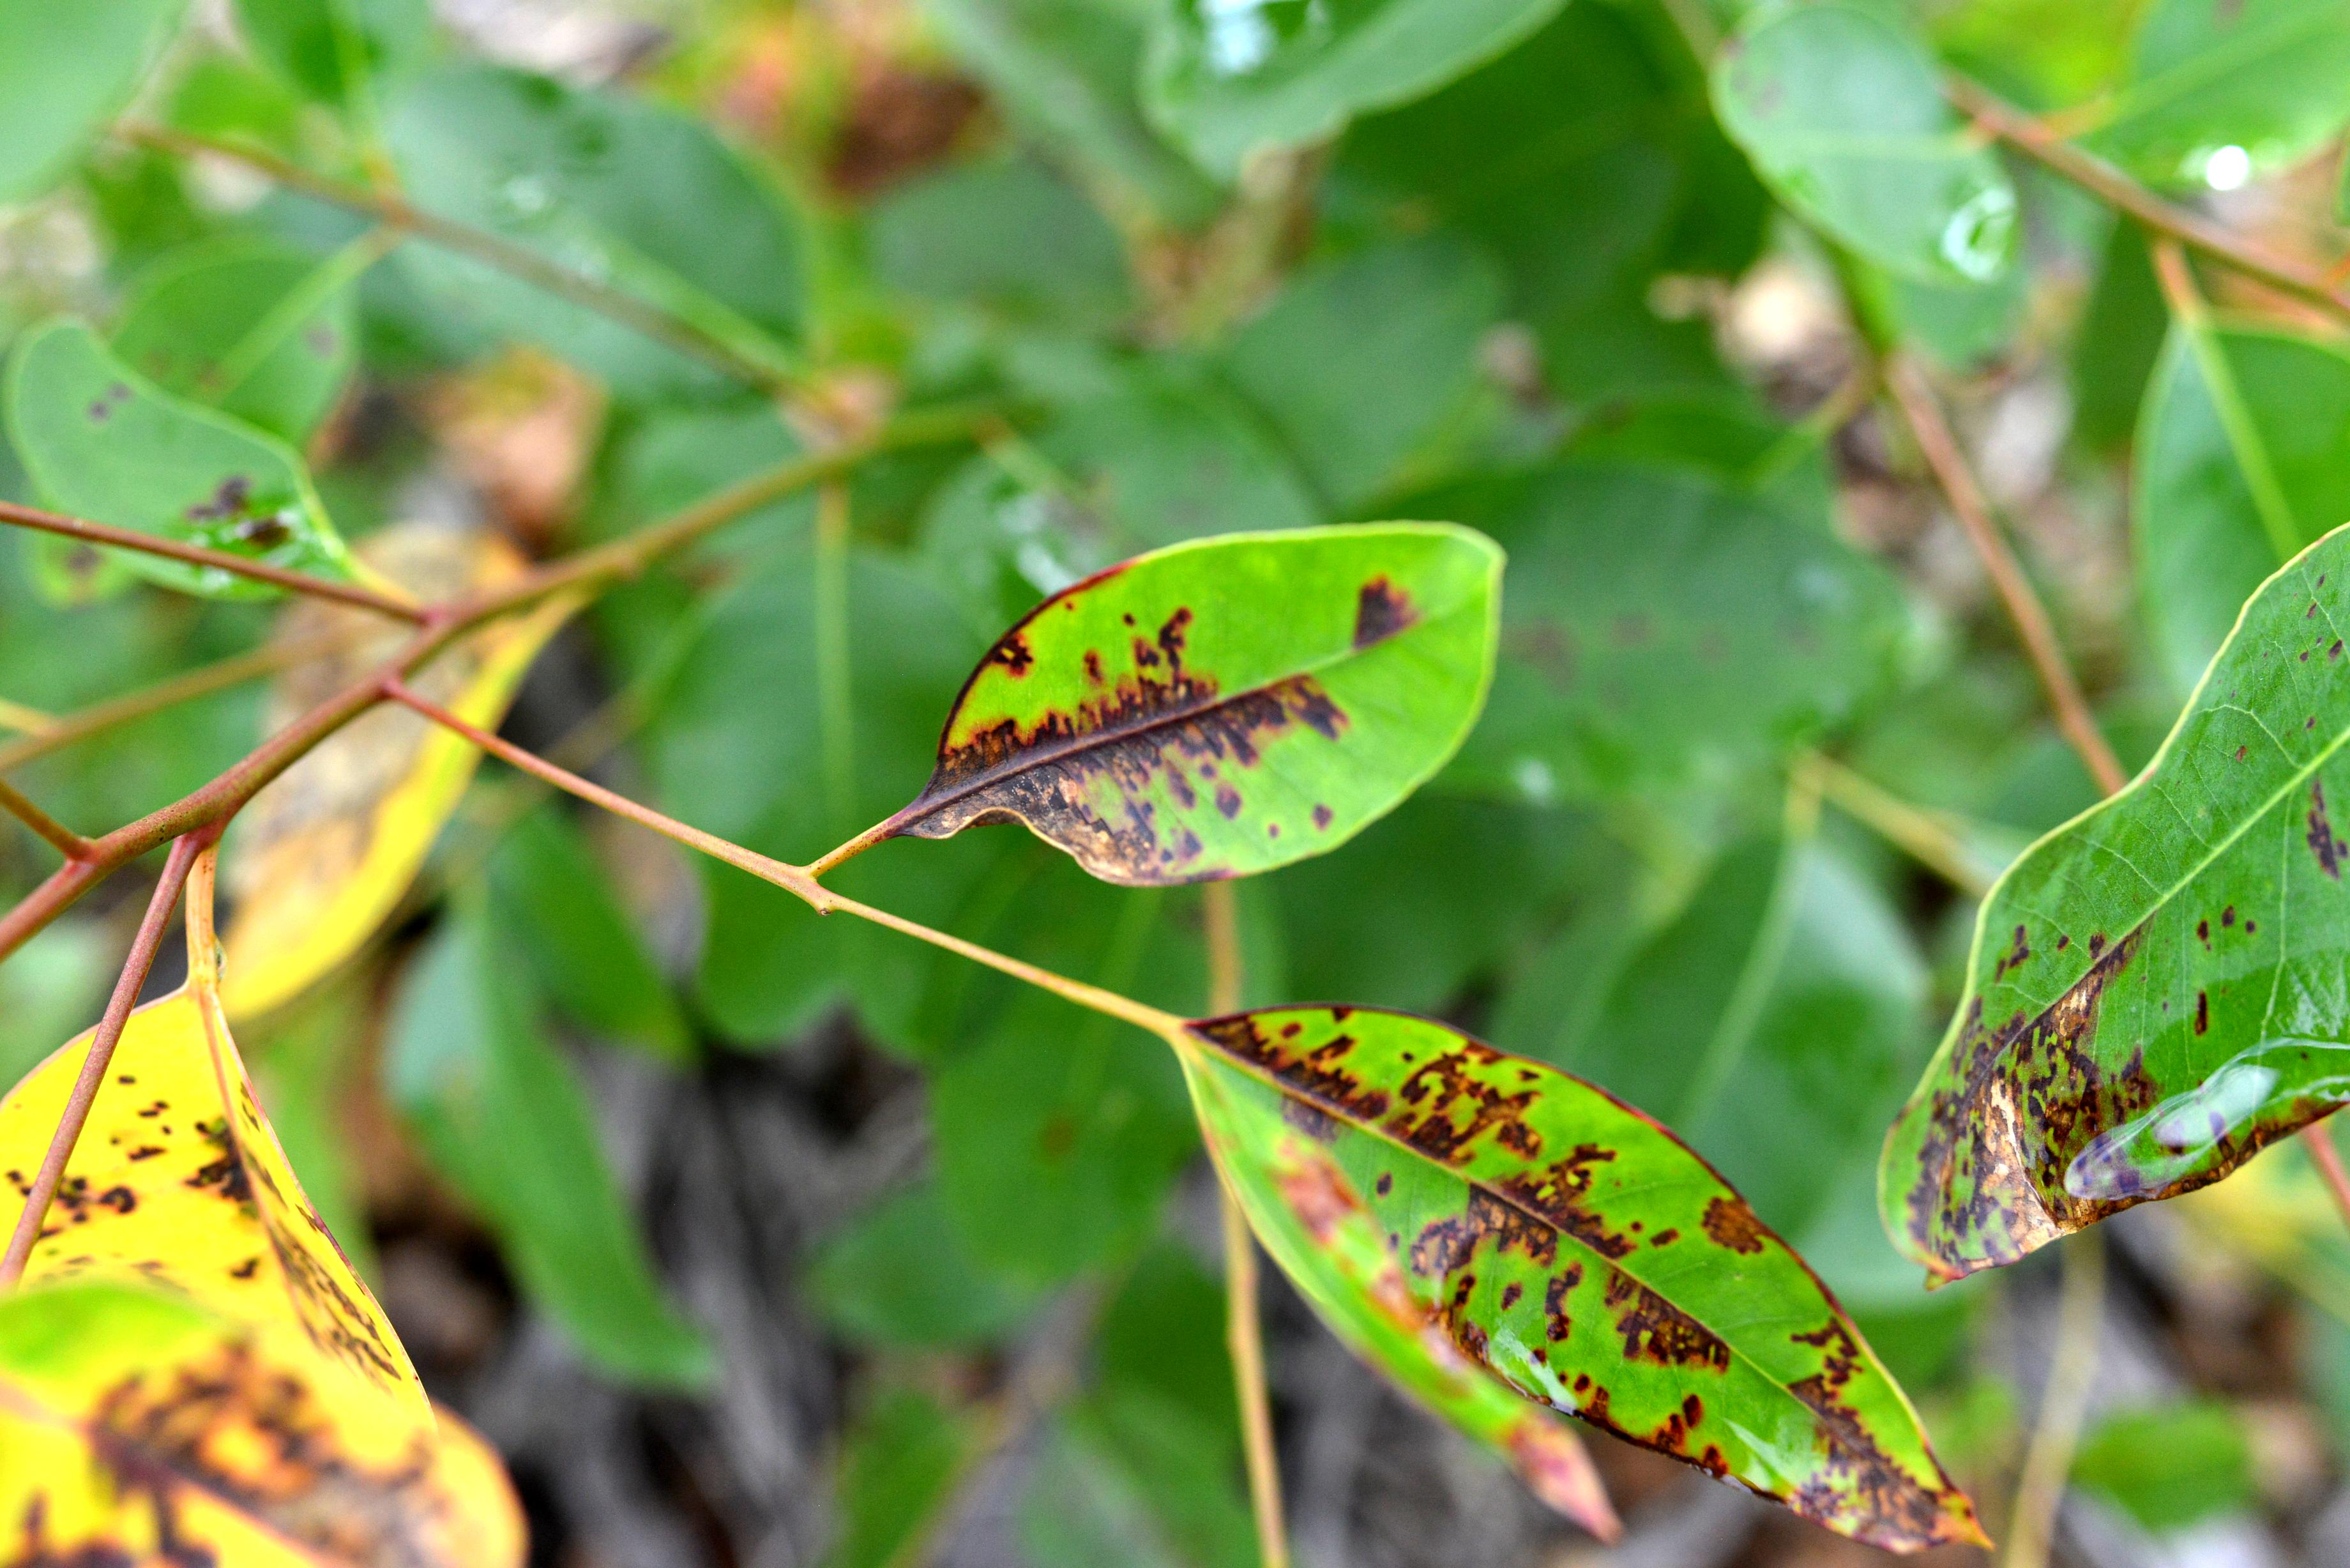Xanthomonas: (1164, 987, 1974, 1543), (0, 952, 534, 1568), (1991, 450, 2350, 1286), (962, 530, 1517, 901)
